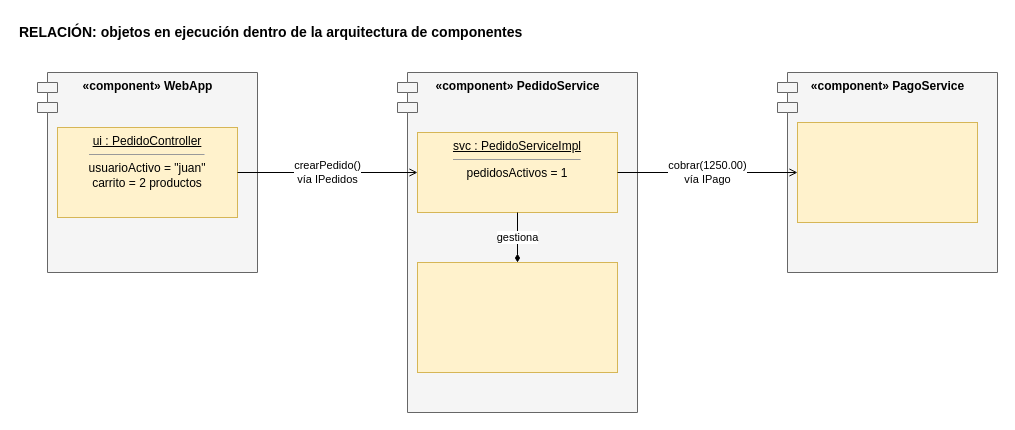
The diagram is 1015 pixels wide and 430 high, and some of its shapes have lost their labels. Here are the shapes that lost their labels. From the top down, the centre of each, then its label:
point (887, 172): pago77 : Pago monto = 1250.00 metodo = "Tarjeta"
point (517, 317): pedido1042 : Pedido id = 1042 total = 1250.00 estado = "Pendiente"
